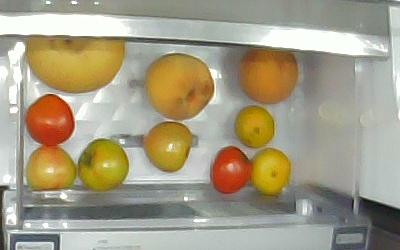peach: (145, 53, 215, 121), (234, 48, 300, 116)
pear: (26, 38, 125, 94)
tangerine: (250, 148, 291, 196), (234, 105, 274, 147)
tomato: (77, 137, 129, 192), (26, 93, 75, 145), (144, 122, 192, 173), (25, 143, 77, 190), (210, 145, 250, 195)
